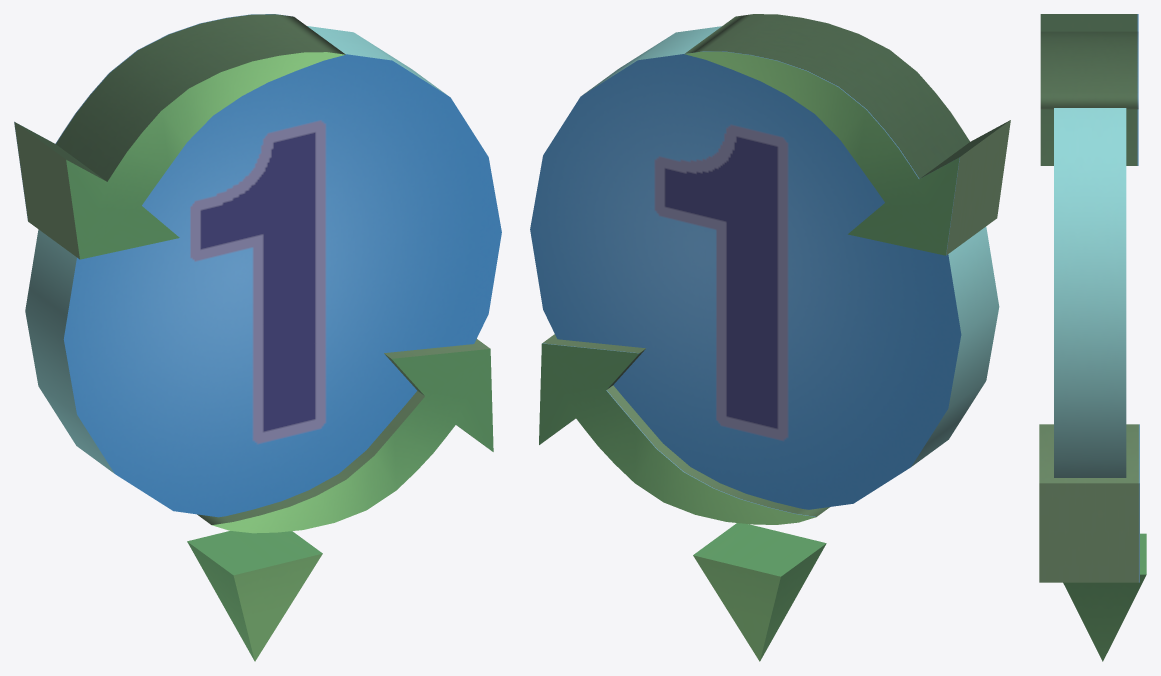
File: a_SWAtrash01_n01.glb
3 views of the same model, side by side, from view 1: azimuth 30°, elevation 25°; view 2: azimuth 150°, elevation 25°; view 3: azimuth 270°, elevation 25° (orthographic). The views are drawn at different scales.
Visible parts, largest first — view 1: a_SWAtrash01_n01; view 2: a_SWAtrash01_n01; view 3: a_SWAtrash01_n01.
Part boxes in pixels (x1,y1,x2,y2): a_SWAtrash01_n01: (14, 14, 501, 661); a_SWAtrash01_n01: (530, 14, 1010, 661); a_SWAtrash01_n01: (1039, 14, 1146, 661).
Bounding box in the file's own units: 0.873 × 1.19 × 0.1948.
Materials: 2 (2 with a texture image).
